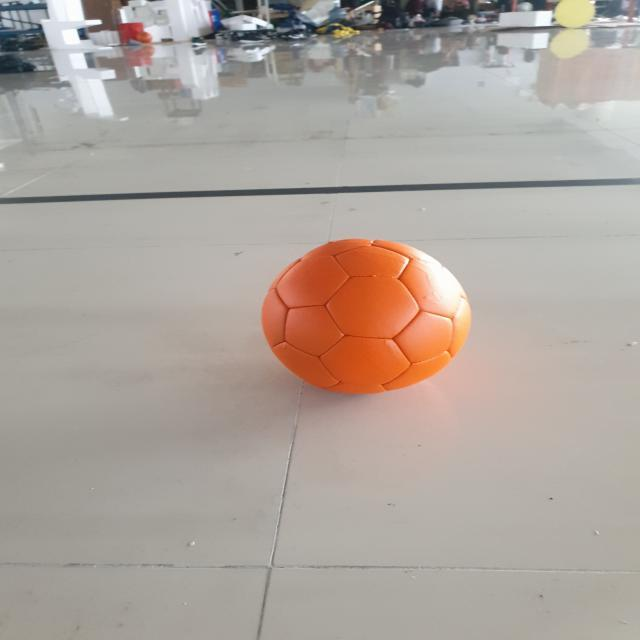bola: (214, 216, 507, 413)
